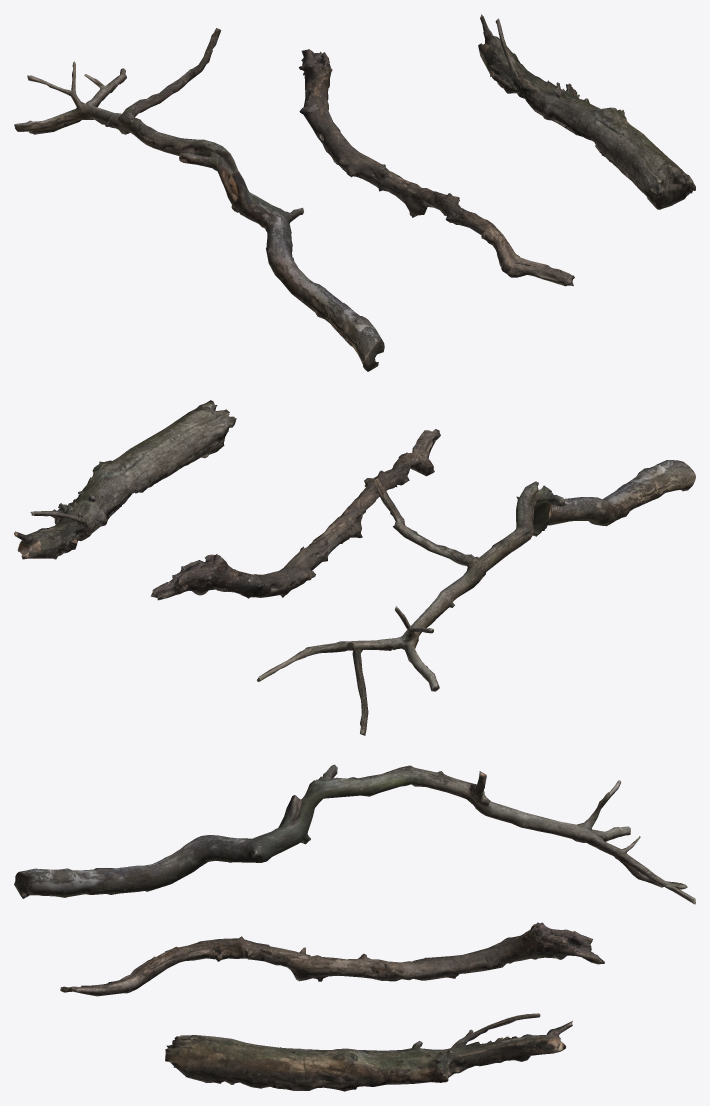
Rendered from dry_branches_medium_01.glb.
3 views of the same model, one above another, from view 1: azimuth 30°, elevation 25°; view 2: azimuth 150°, elevation 25°; view 3: azimuth 270°, elevation 25° (orthographic). The views are drawn at different scales.
Visible parts, largest first — view 1: dry_branches_medium_01_a, dry_branches_medium_01_c, dry_branches_medium_01_b; view 2: dry_branches_medium_01_a, dry_branches_medium_01_c, dry_branches_medium_01_b; view 3: dry_branches_medium_01_a, dry_branches_medium_01_c, dry_branches_medium_01_b.
Part boxes in pixels (<box>): dry_branches_medium_01_a: <box>14,28,384,371</box>; dry_branches_medium_01_c: <box>478,14,695,209</box>; dry_branches_medium_01_b: <box>299,49,574,286</box>; dry_branches_medium_01_a: <box>257,460,695,735</box>; dry_branches_medium_01_c: <box>14,400,236,559</box>; dry_branches_medium_01_b: <box>150,429,440,600</box>; dry_branches_medium_01_a: <box>14,764,695,904</box>; dry_branches_medium_01_c: <box>165,1013,572,1091</box>; dry_branches_medium_01_b: <box>60,922,604,996</box>.
Bounding box in the file's own units: 1.06 × 0.341 × 1.3.
1 material, 1 textured.
